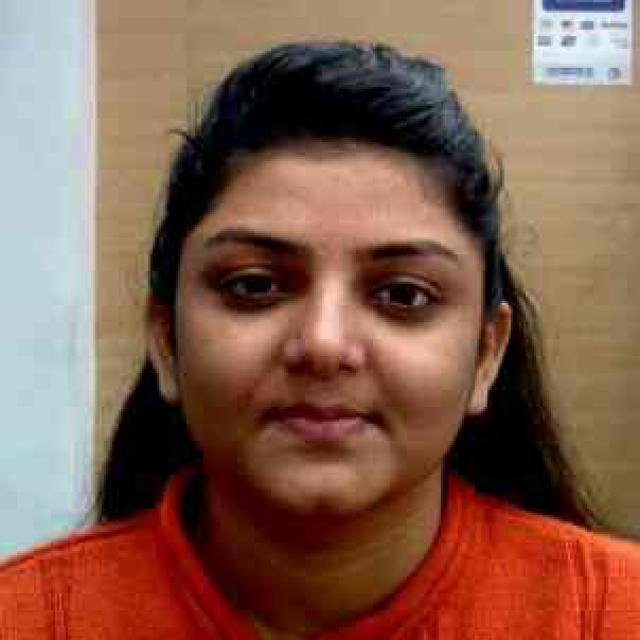puffy_eyes: (366, 305, 436, 328), (221, 295, 294, 314)
